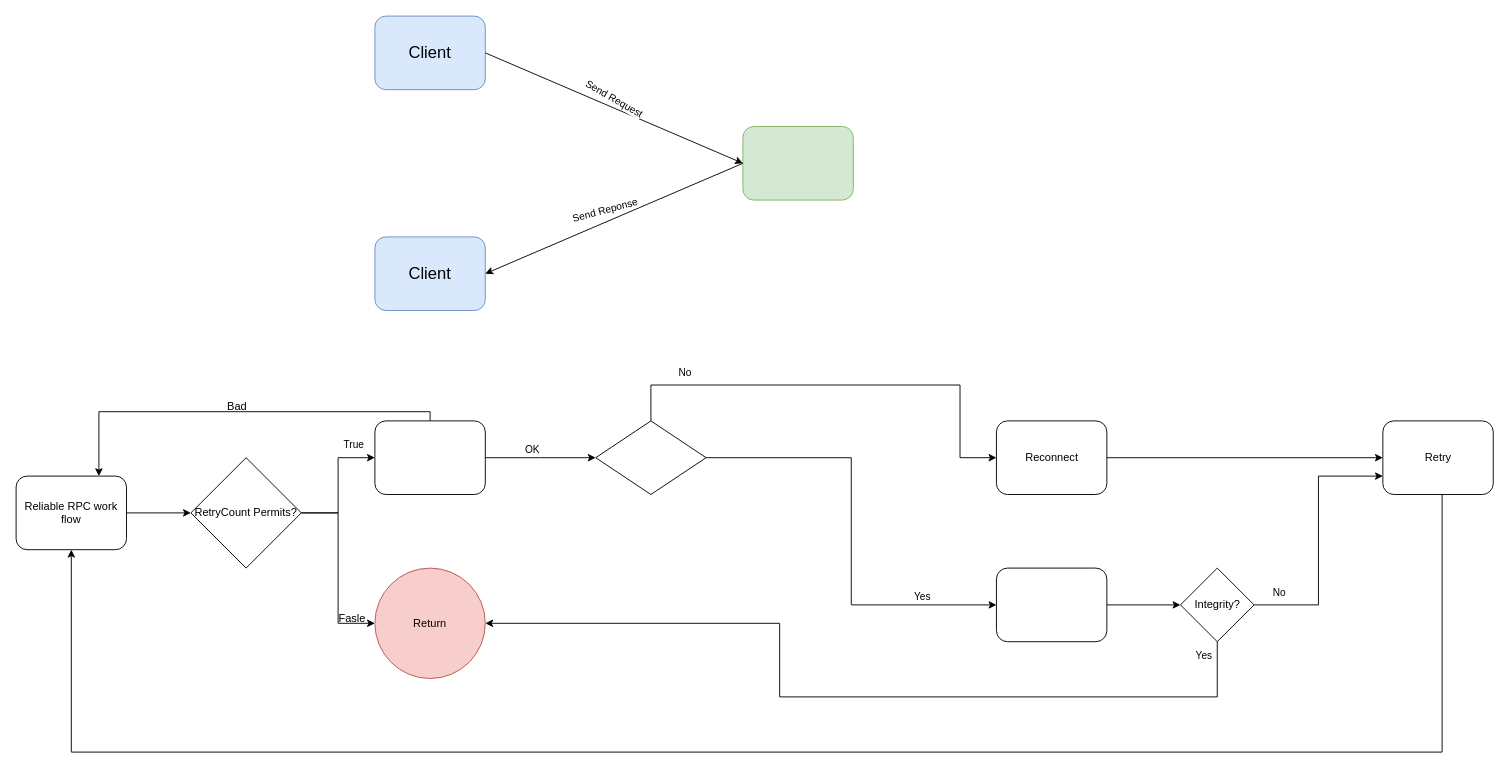
The diagram is 1510 pixels wide and 776 high, and some of its shapes have lost their labels. The centre of each missing label's shape, as x and y in pixels:
"Recv Message" belongs at (1051,604).
"Send" belongs at (429,457).
"Serever Running?" belongs at (650,457).
"Server" belongs at (797,163).
